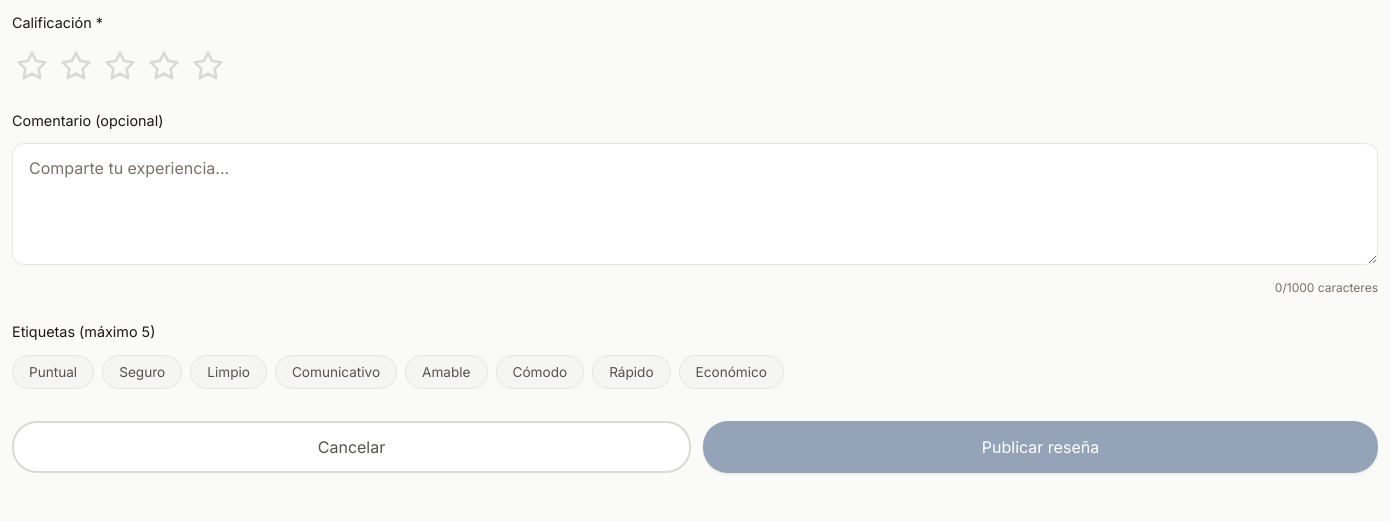
Test case: ReviewForm › allows toggling tags and shows selected list
The width and height of the screenshot is (1390, 521).
Click the button "Puntual".
click(53, 372)  # box [12,355,94,389]
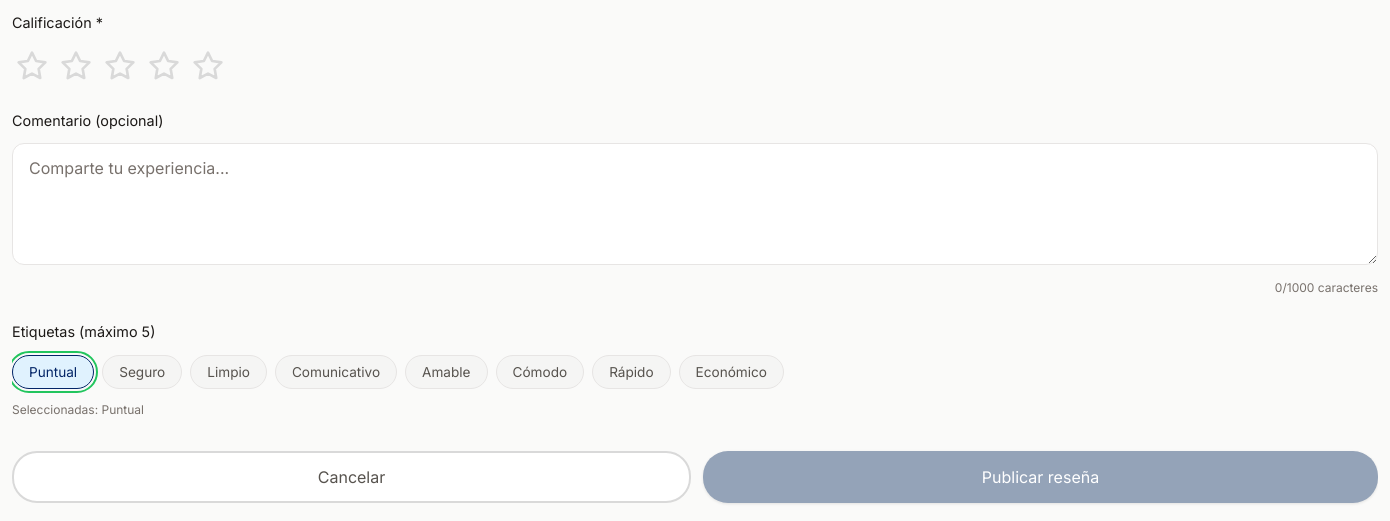
Result: the text "Seleccionadas: Puntual" is shown at [12,402,144,417]
